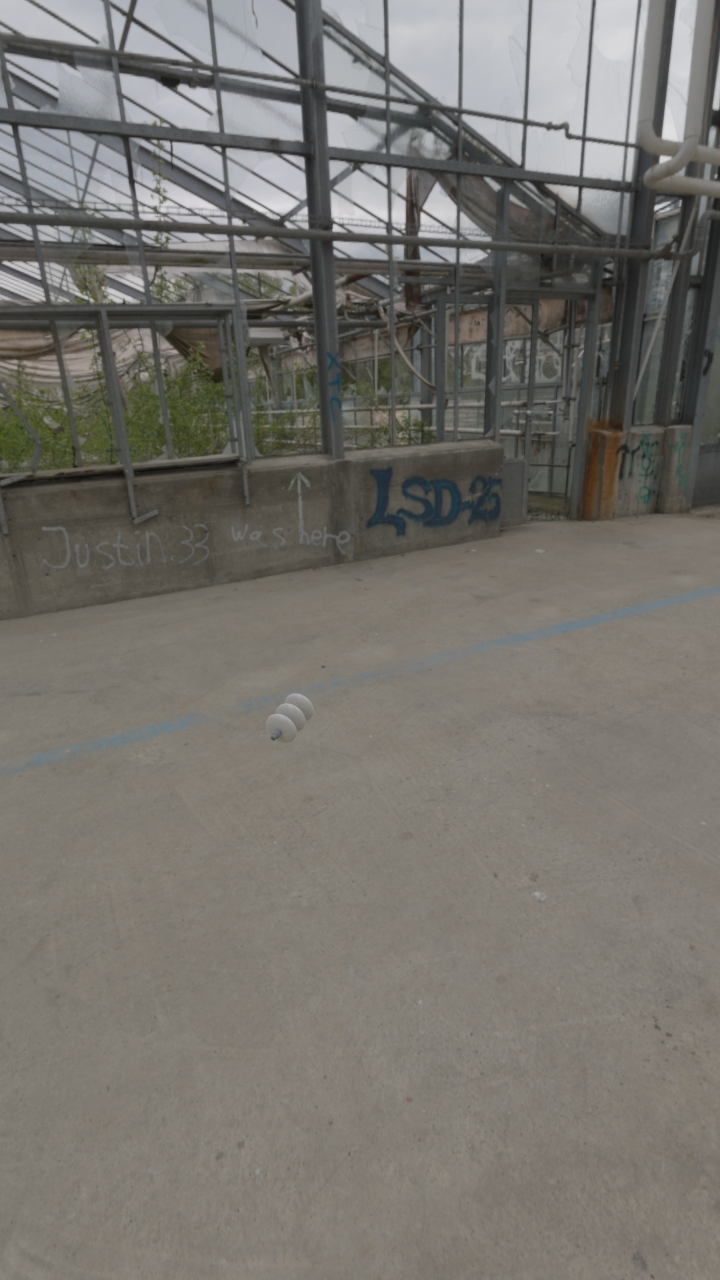ceramicinsulators: (266, 693, 314, 743)
